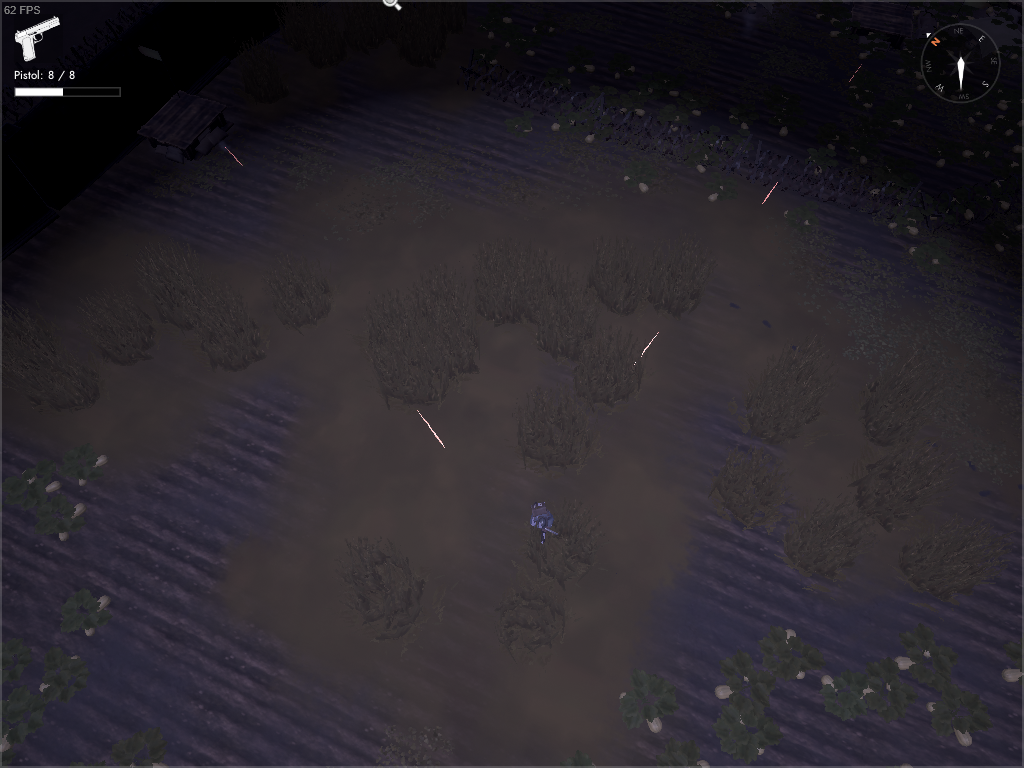foxhole: (712, 1, 780, 23)
pillbox: (125, 43, 240, 167), (845, 1, 929, 41)
player: (528, 497, 564, 547)
wire: (731, 140, 960, 241), (577, 90, 757, 172), (448, 52, 590, 117)
